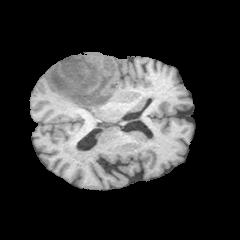glioma: (49, 52, 118, 110)
